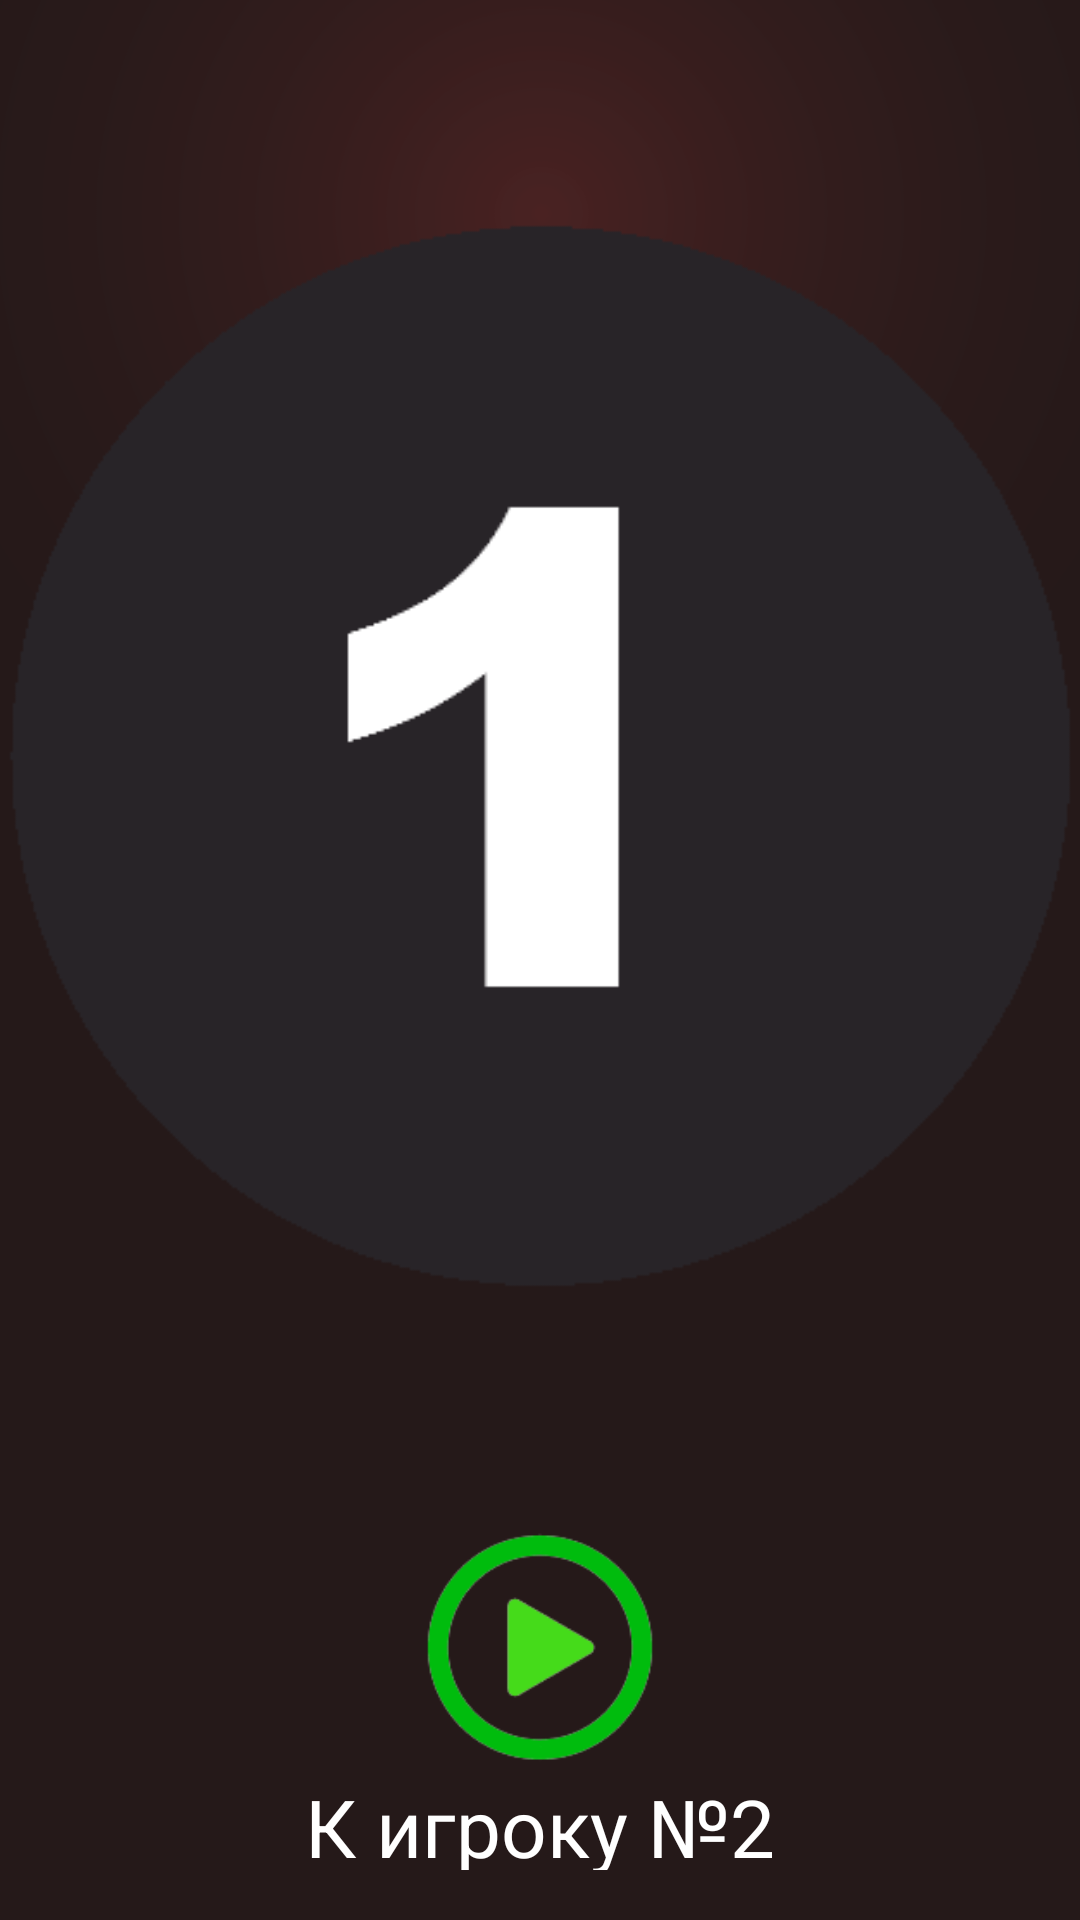

Icon click points for this 1080x1920 phone screenshot, format point (x, y):
start: point (540, 1647)
